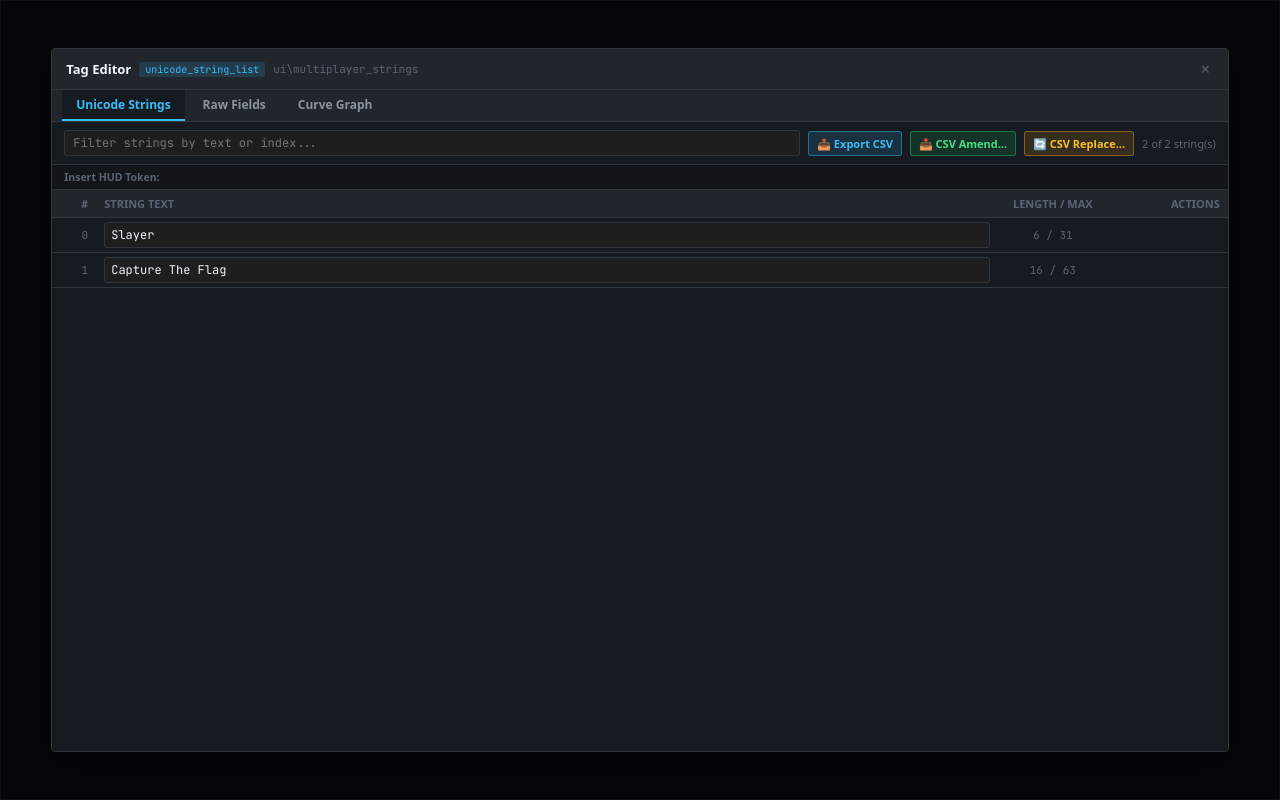
Test case: Milestone 9 Desktop Components › TagEditorDialog for unicode_string_list › shows Unicode Strings tab by default and switches to Raw Fields
Expected: the button with test id "tag-editor-tab-strings" is shown, [62,90,185,121]
Expected: the element with test id "unicode-string-editor-panel" is shown, [52,122,1228,288]
Click the button with test id "tag-editor-tab-fields": click(234, 106) [189,90,280,121]
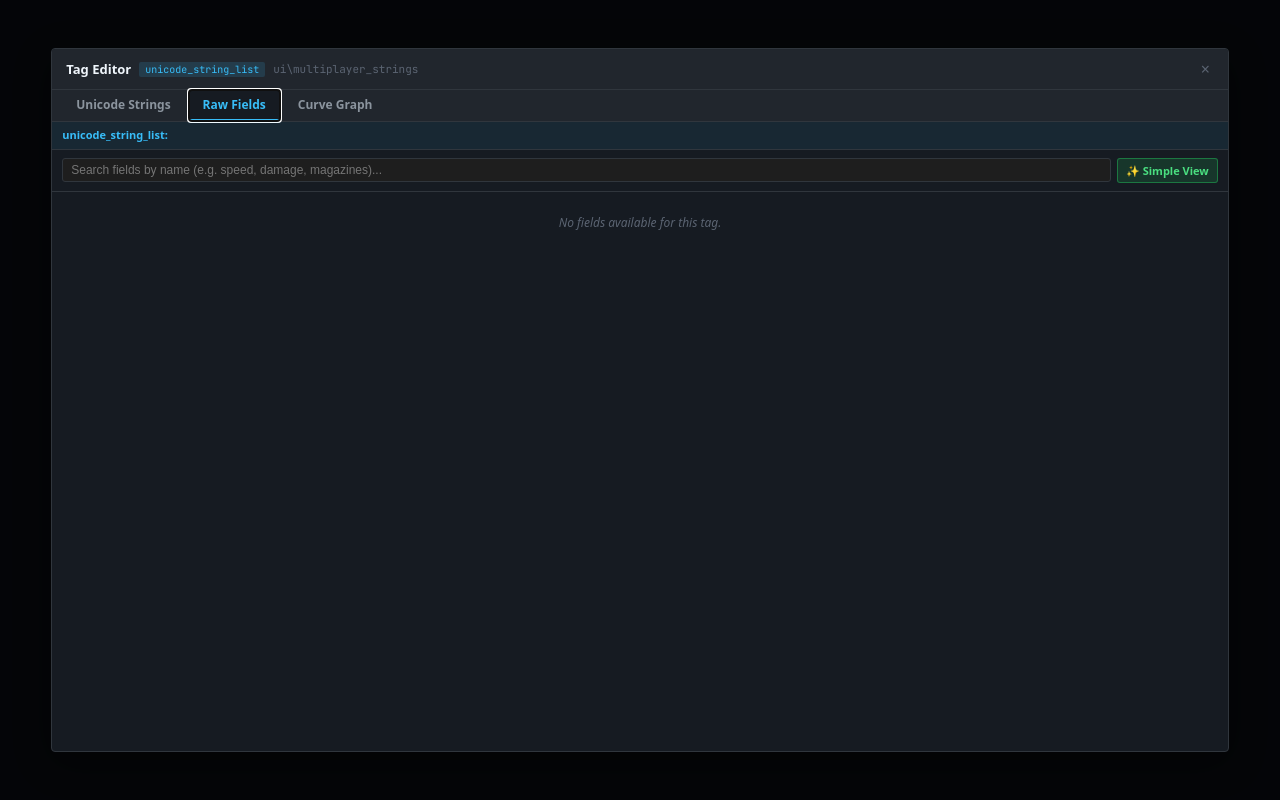
Now the element with test id "properties-palette-fields" is shown, box [52,122,1228,231]
